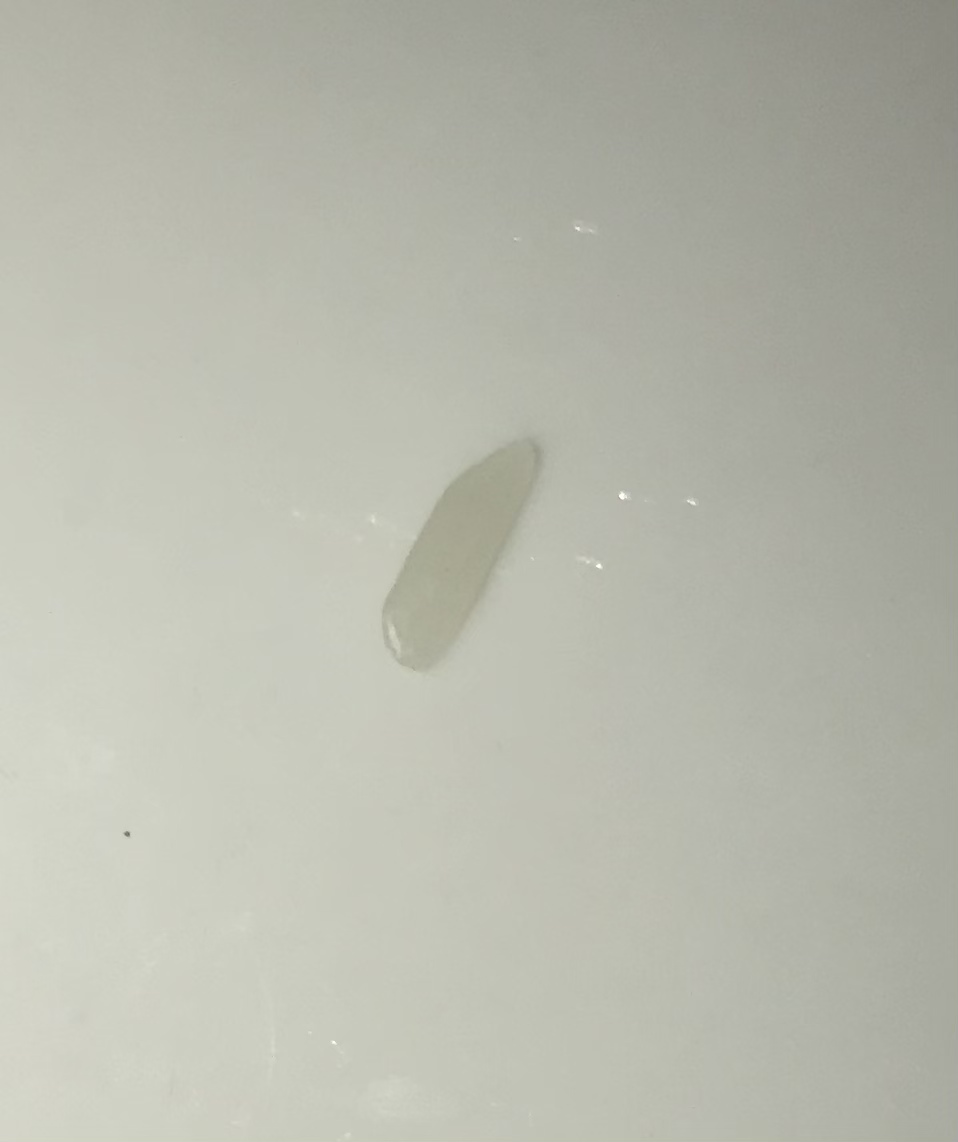Gao Thom Go Cong: (356, 421, 564, 692)
